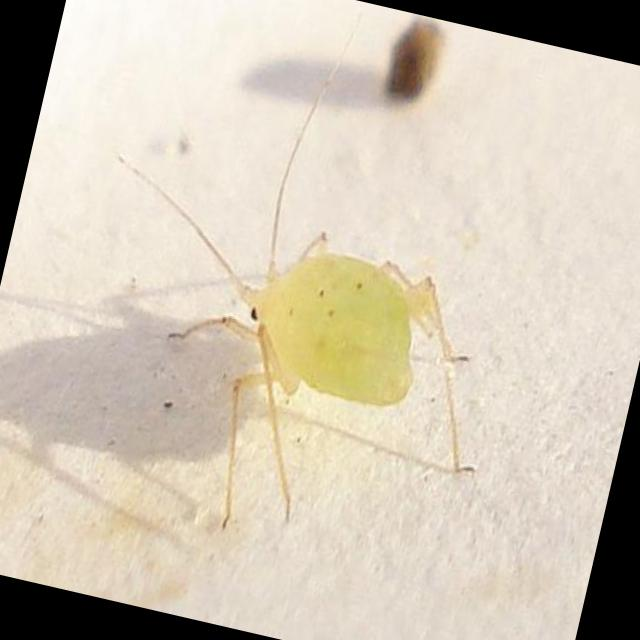Aphids: (41, 45, 534, 585)
